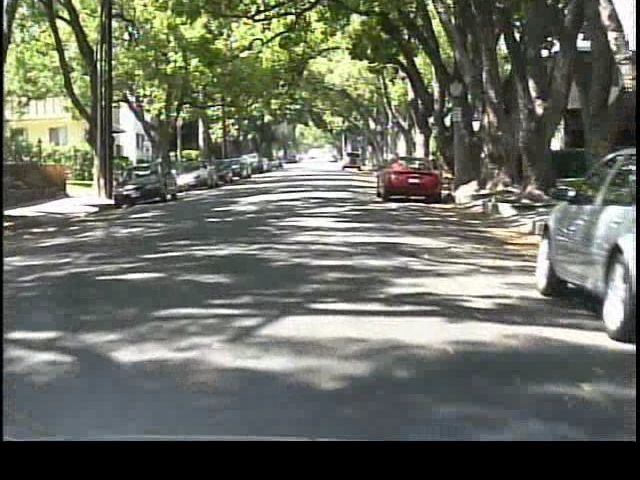person: (151, 147, 171, 186)
